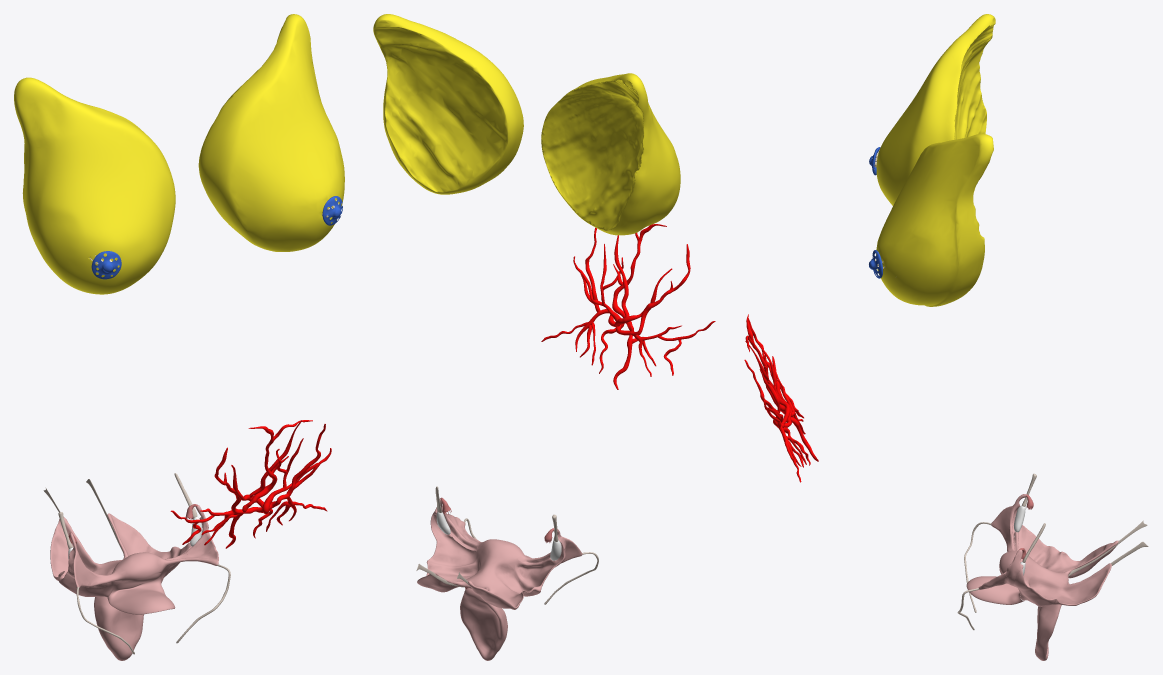
Rendered from femaleReproductive.glb.
3 renders of one model, left to right at view 1: azimuth 30°, elevation 25°; view 2: azimuth 150°, elevation 25°; view 3: azimuth 270°, elevation 25°, orthographic. The views are drawn at different scales.
Visible parts, largest first — view 1: interlobar-adipose-tissue-of-right-mammary-gland, interlobar-adipose-tissue-of-left-mammary-gland, broad-ligament, placenta-vessels, vagina, uterovesical-pouch, right-female-areola; view 2: interlobar-adipose-tissue-of-left-mammary-gland, interlobar-adipose-tissue-of-right-mammary-gland, broad-ligament, placenta-vessels, vagina; view 3: interlobar-adipose-tissue-of-left-mammary-gland, interlobar-adipose-tissue-of-right-mammary-gland, broad-ligament, placenta-vessels, uterovesical-pouch, vagina.
Part boxes in pixels (x1,y1,x2,y2): interlobar-adipose-tissue-of-right-mammary-gland: [14, 77, 175, 294]; interlobar-adipose-tissue-of-left-mammary-gland: [198, 14, 344, 251]; broad-ligament: [50, 512, 218, 597]; placenta-vessels: [170, 420, 331, 548]; vagina: [94, 597, 143, 660]; uterovesical-pouch: [107, 573, 175, 614]; right-female-areola: [91, 251, 121, 279]; interlobar-adipose-tissue-of-left-mammary-gland: [373, 14, 523, 194]; interlobar-adipose-tissue-of-right-mammary-gland: [541, 73, 680, 235]; broad-ligament: [417, 512, 582, 609]; placenta-vessels: [541, 224, 715, 389]; vagina: [460, 603, 507, 660]; interlobar-adipose-tissue-of-left-mammary-gland: [876, 134, 993, 306]; interlobar-adipose-tissue-of-right-mammary-gland: [876, 14, 995, 205]; broad-ligament: [978, 506, 1118, 606]; placenta-vessels: [744, 314, 818, 482]; uterovesical-pouch: [966, 569, 1024, 604]; vagina: [1035, 606, 1059, 660].
Size of the model in its own units: 0.2889 by 0.5806 by 0.3611.
